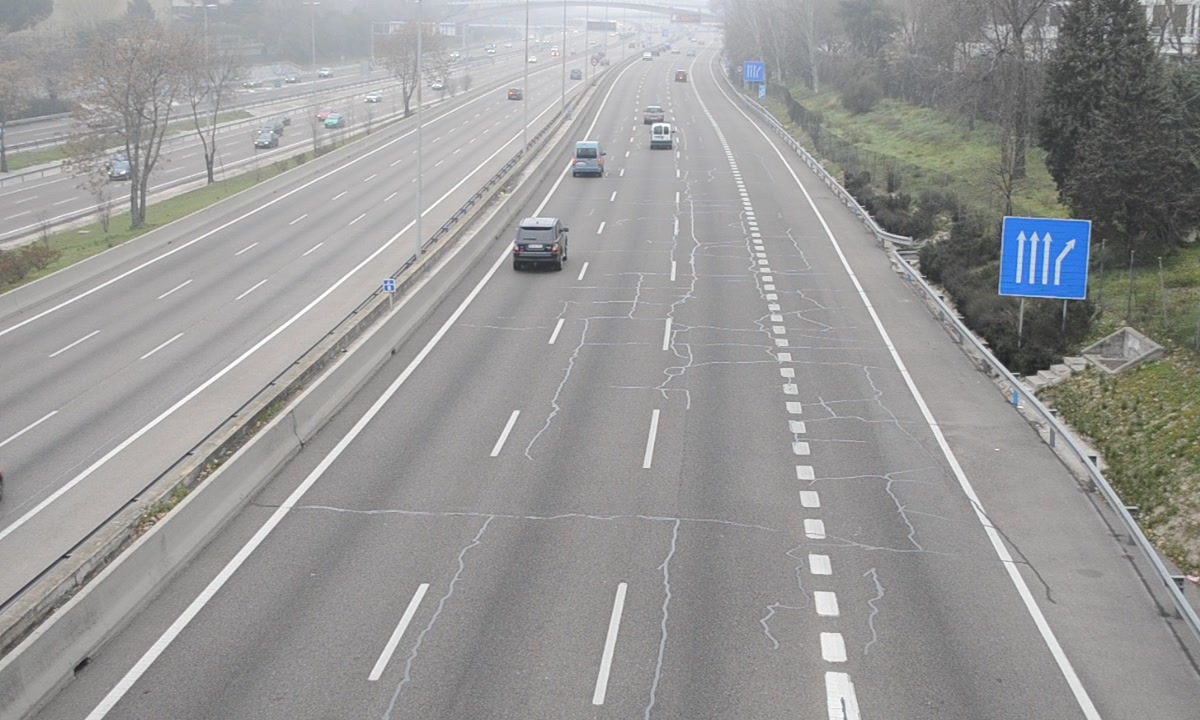car: (513, 217, 568, 267)
van: (573, 141, 604, 180)
